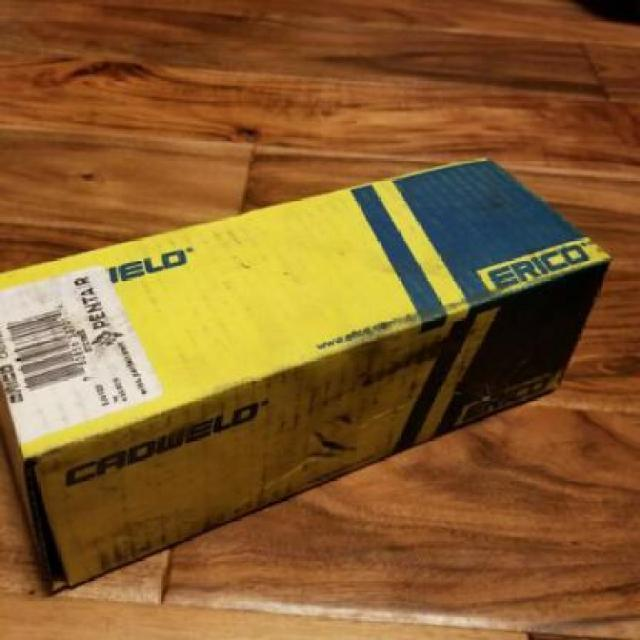box: (0, 153, 609, 595)
